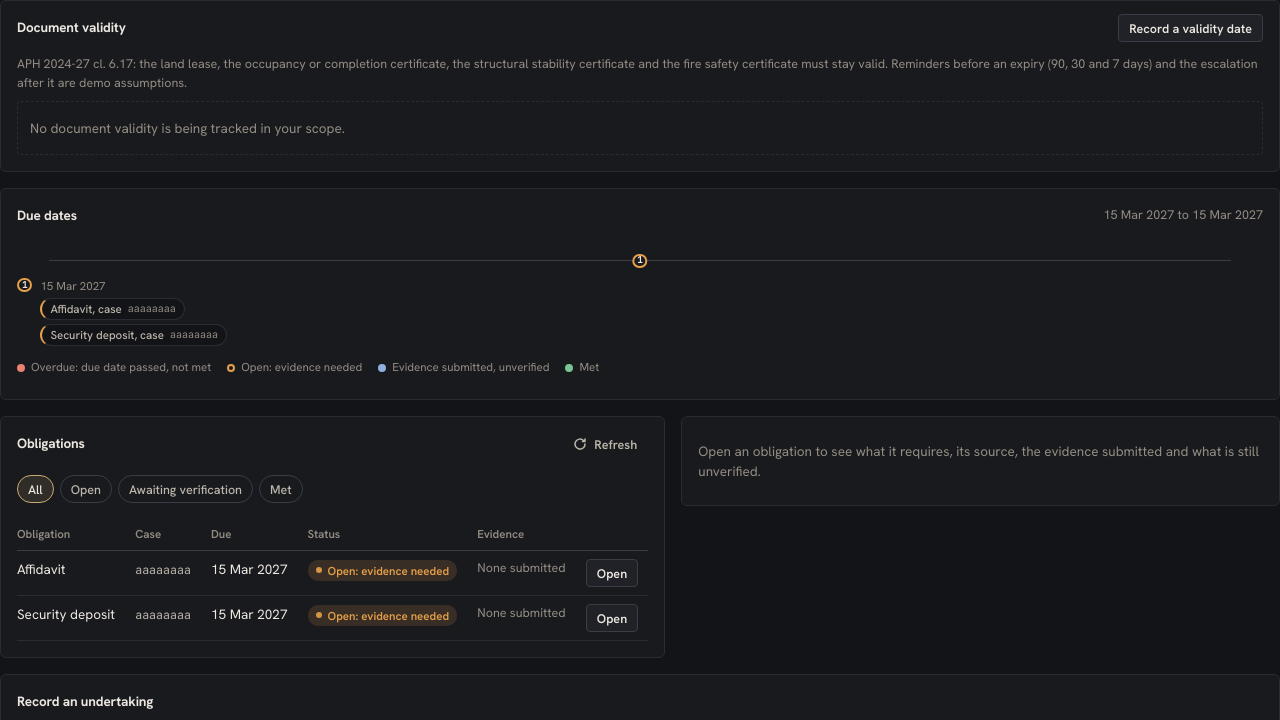
lifecycle and compliance axis › groups obligations due the same day under one marker and opens the one chosen
Check: the heading "Due dates" is shown, box [17,207,77,224]
Check: the number of elements with class "axis-group" is 1, box [632,254,648,268]
Click the button with aria-label "Security deposit, case aaaaaaaa, due" at [134, 335], box [40,324,227,346]
(page scrolled)
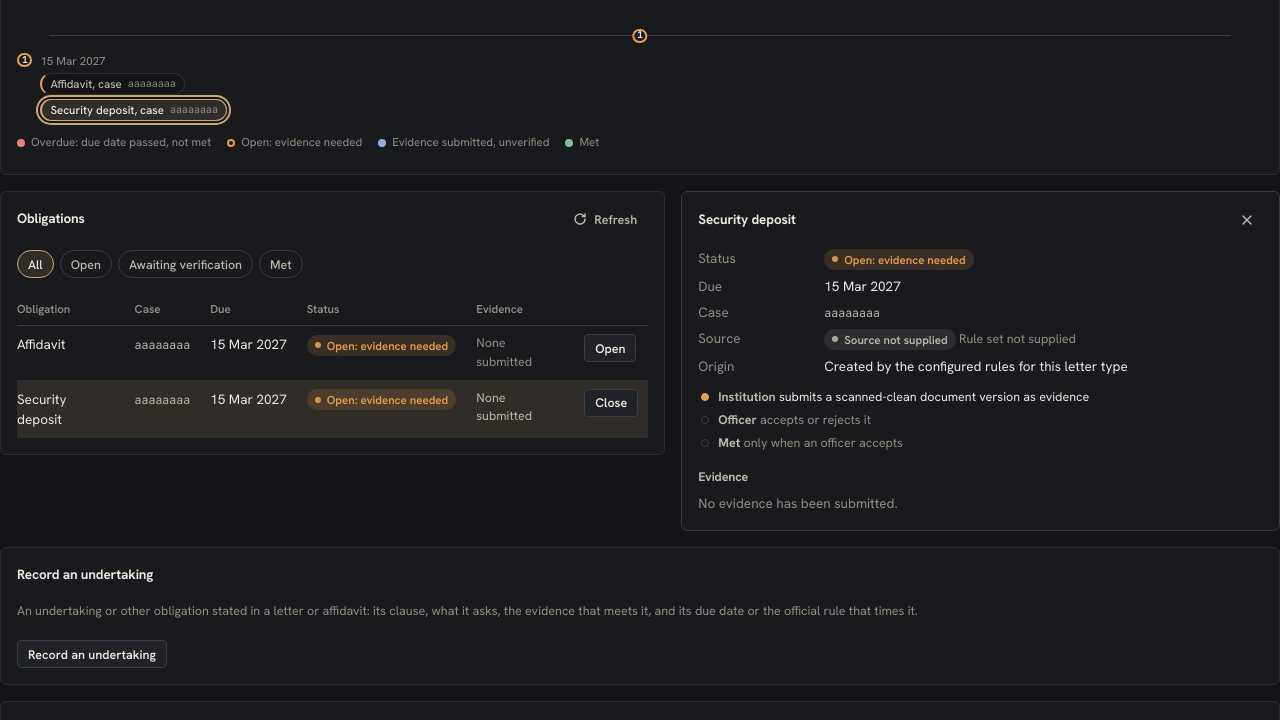
Check: the element named "Obligation detail" shows "Security deposit", box [698,210,796,228]
